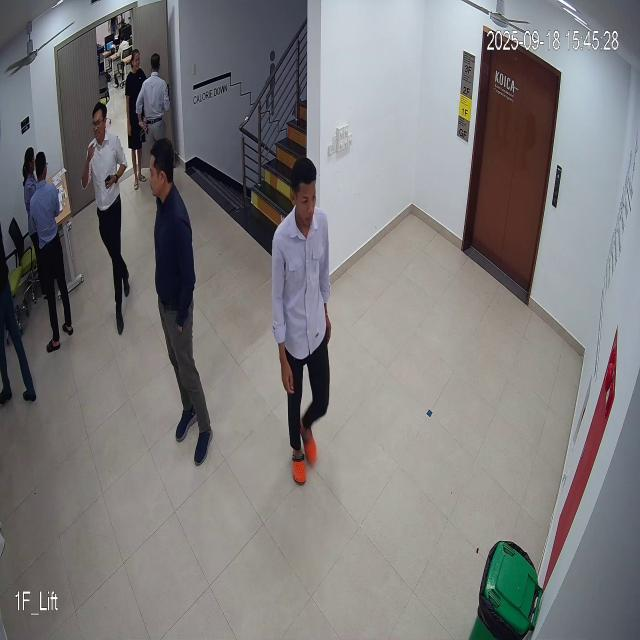face: (288, 149, 317, 230)
